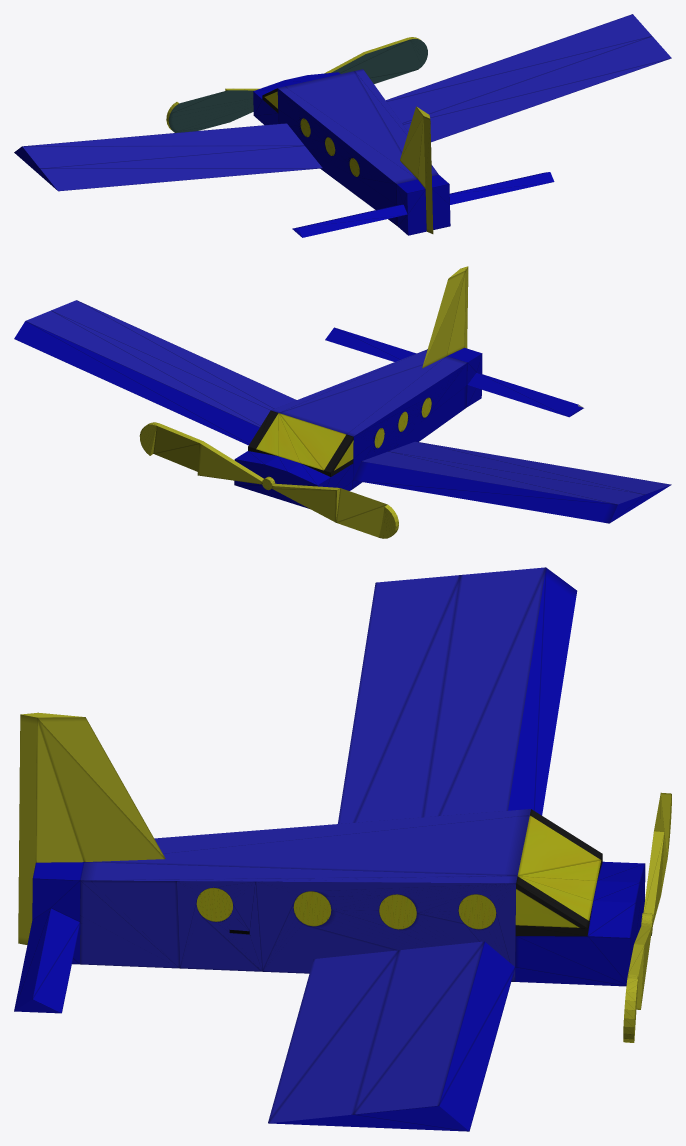
The picture shows the model from 3 angles, top to bottom: view 1: azimuth 30°, elevation 25°; view 2: azimuth 150°, elevation 25°; view 3: azimuth 270°, elevation 25°; orthographic projection. The views are drawn at different scales.
Parts seen in each view (by area): view 1: world; view 2: world; view 3: world.
Part boxes in pixels (bbox=[...]): world: bbox=[14, 14, 671, 237]; world: bbox=[14, 266, 671, 538]; world: bbox=[14, 567, 671, 1131].
Size of the model in its own units: 1.93 by 0.3614 by 0.9449.
1 material, 1 textured.
